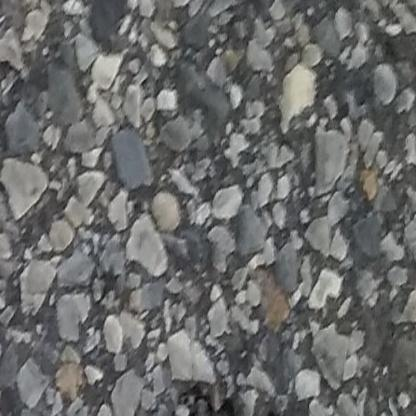Cracks: (116, 381, 320, 416)
